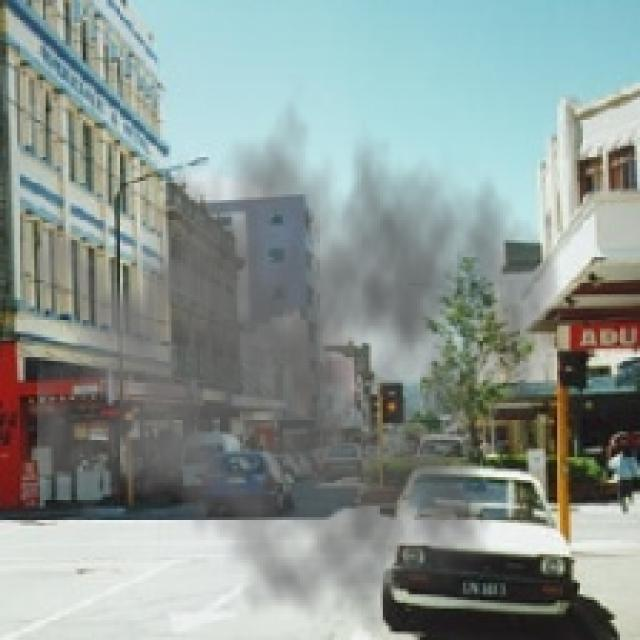Smoke: (37, 74, 572, 637)
